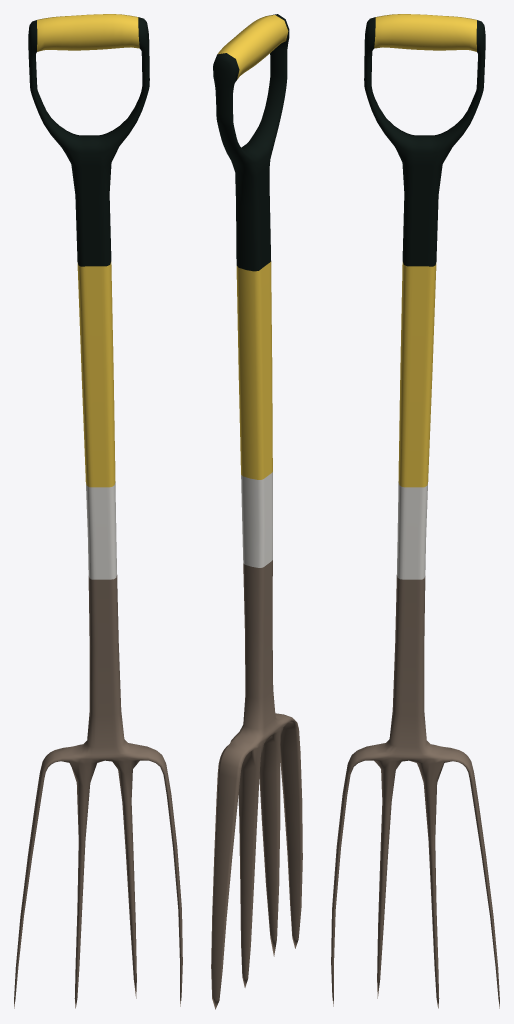
Rendered from fork.glb.
The picture shows the model from 3 angles, left to right: view 1: azimuth 90°, elevation 25°; view 2: azimuth 150°, elevation 25°; view 3: azimuth 270°, elevation 25°; orthographic projection. The views are drawn at different scales.
Visible parts, largest first — view 1: Plane; view 2: Plane; view 3: Plane.
Part boxes in pixels (left/top/right/bottom): Plane: left=14, top=14, right=182, bottom=1008; Plane: left=211, top=14, right=302, bottom=1009; Plane: left=331, top=14, right=499, bottom=1008.
Bounding box in the file's own units: 0.1465 × 4.9 × 0.753.
